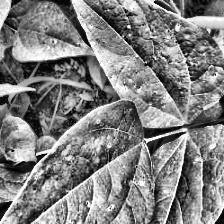Bean Rust: (73, 0, 224, 121), (0, 105, 149, 224), (139, 124, 223, 224), (10, 0, 90, 70), (0, 106, 37, 164)
